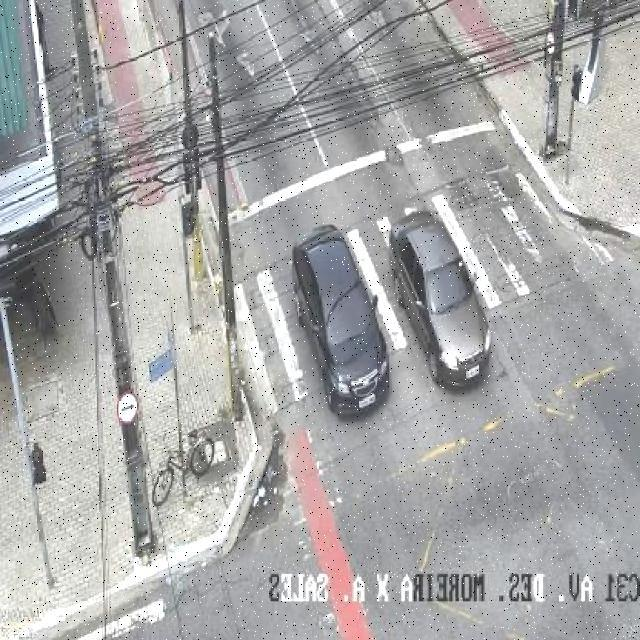Car: (285, 222, 394, 438), (382, 209, 502, 384)
Cycle: (151, 424, 217, 511)
